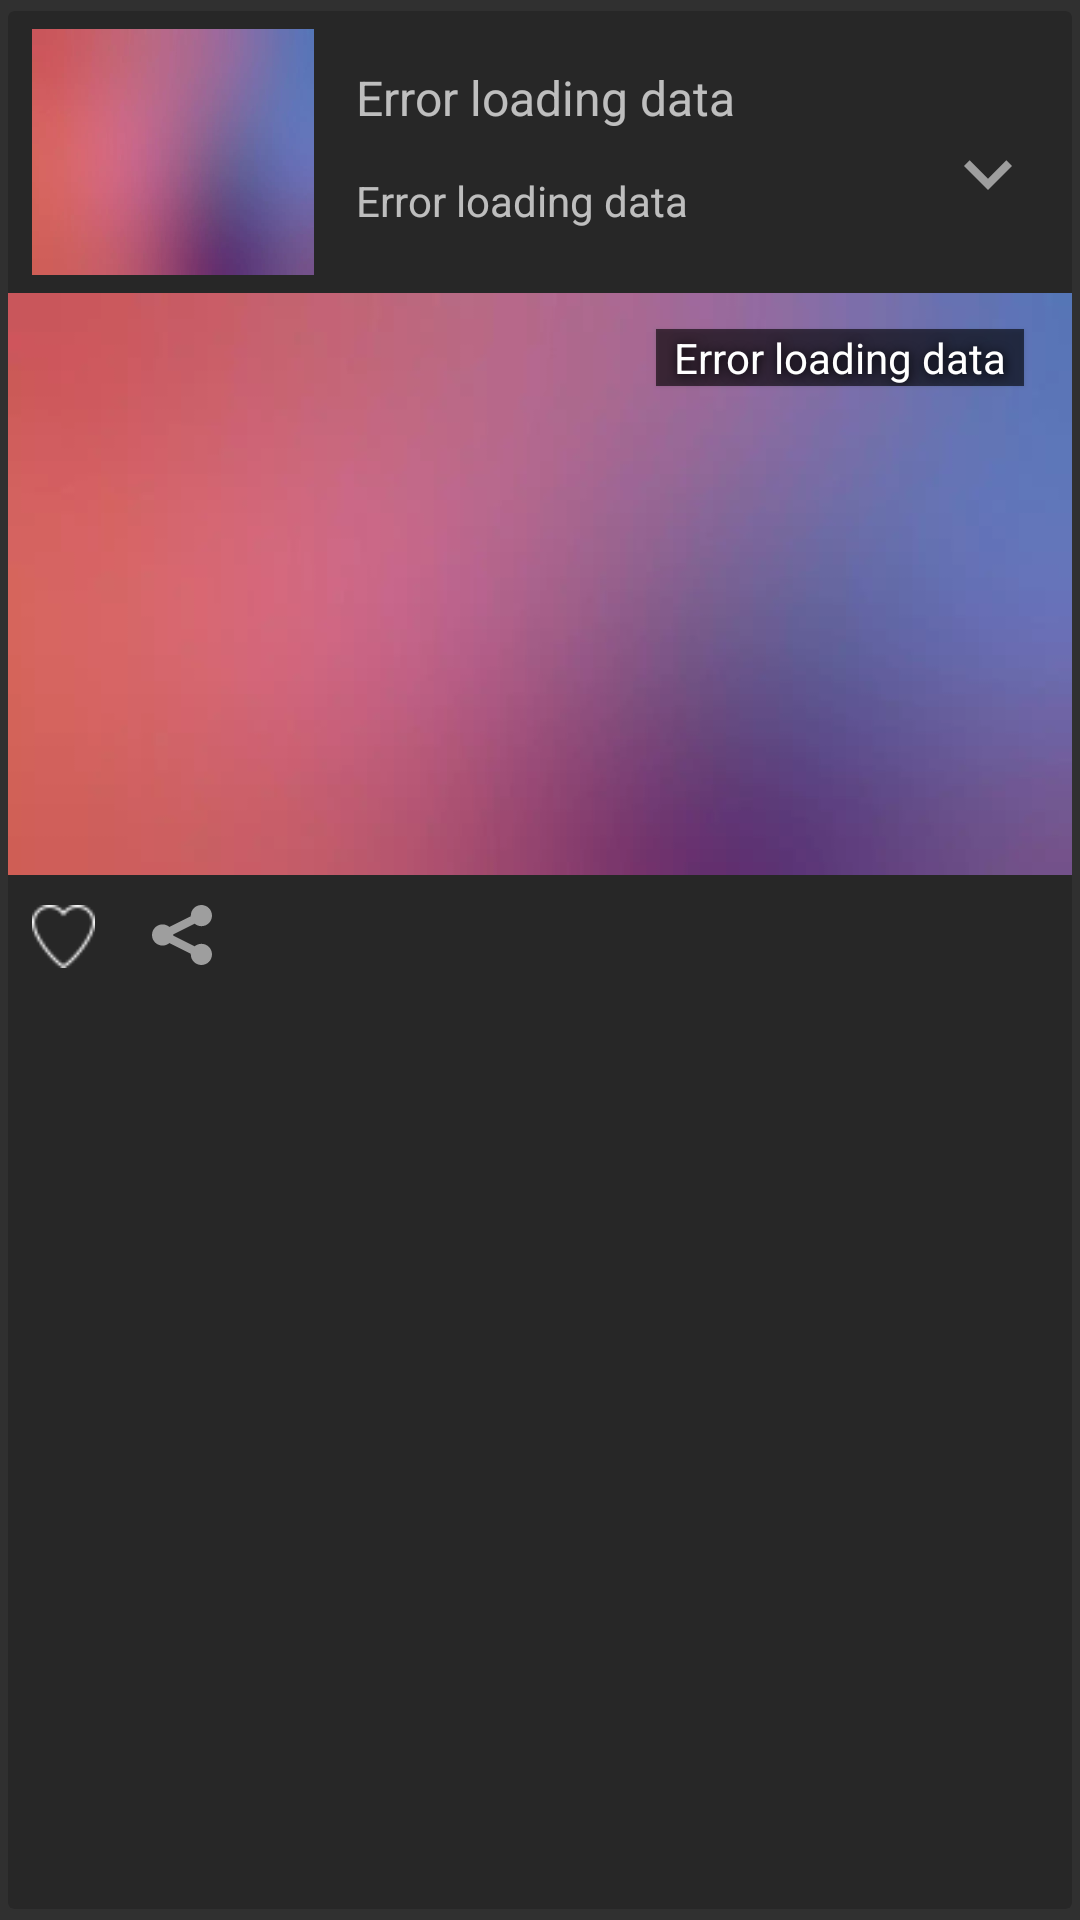

Screen size 1080x1920. Icon name, then its box in pixels as (x1, y1, x2, y2):
Is not favorite: (32, 905, 95, 968)
More: (964, 160, 1012, 190)
